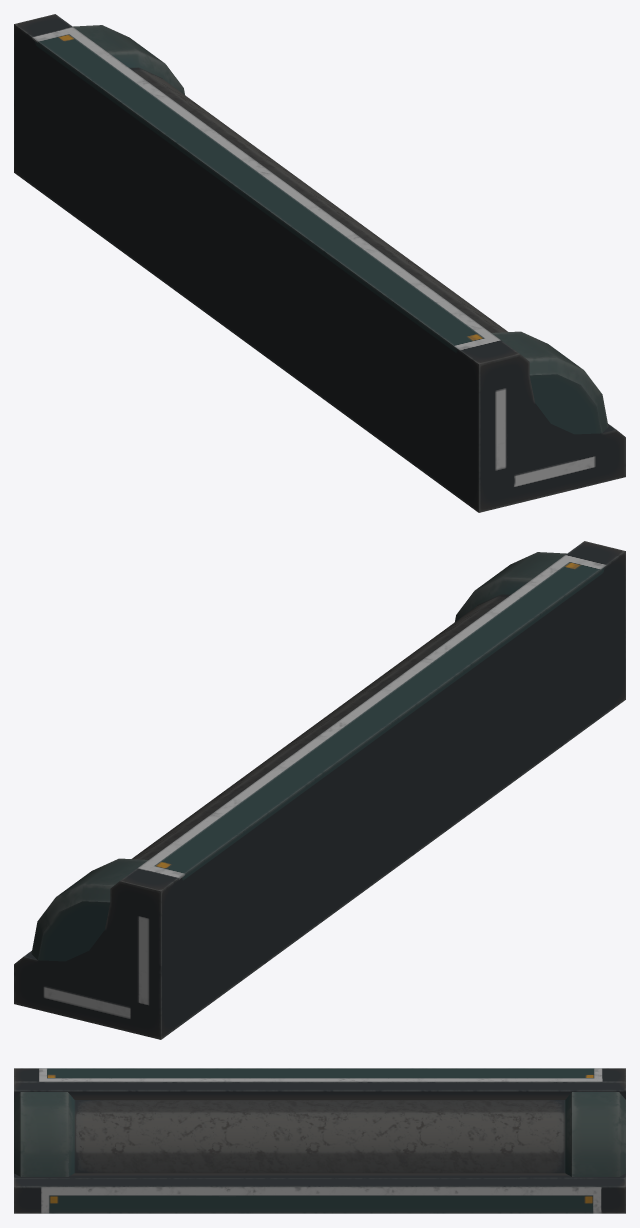
File: Elements2_2_Scifi_BS.fbx
The picture shows the model from 3 angles, top to bottom: view 1: azimuth 30°, elevation 25°; view 2: azimuth 150°, elevation 25°; view 3: azimuth 270°, elevation 25°; orthographic projection. The views are drawn at different scales.
Parts seen in each view (by area): view 1: Elements2_2_Scifi_BS; view 2: Elements2_2_Scifi_BS; view 3: Elements2_2_Scifi_BS.
Boxes of the visible parts, <box> form: Elements2_2_Scifi_BS: <box>14,14,625,512</box>; Elements2_2_Scifi_BS: <box>14,541,625,1039</box>; Elements2_2_Scifi_BS: <box>14,1068,625,1213</box>.
Size of the model in its own units: 18.72 by 18.07 by 102.
1 material, 1 textured.
